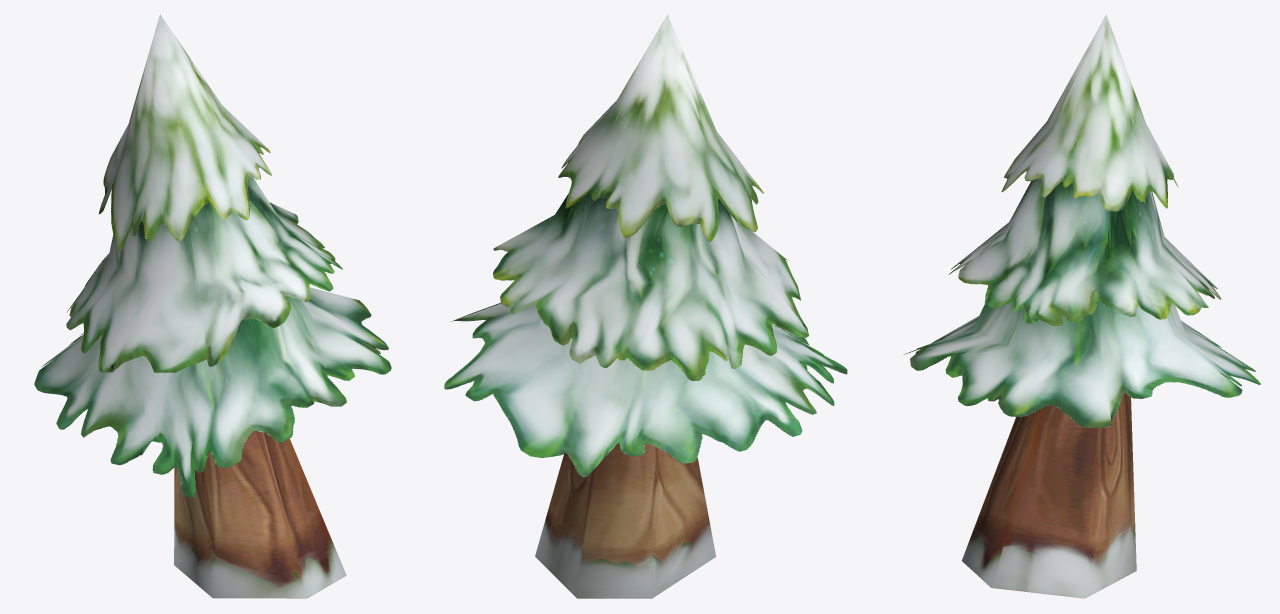
File: SM_tree_03.fbx
3 views of the same model, side by side, from view 1: azimuth 30°, elevation 25°; view 2: azimuth 150°, elevation 25°; view 3: azimuth 270°, elevation 25° (orthographic). The views are drawn at different scales.
Parts seen in each view (by area): view 1: SM_tree_03; view 2: SM_tree_03; view 3: SM_tree_03.
Boxes of the visible parts, bbox=[...] form: SM_tree_03: bbox=[34, 14, 391, 598]; SM_tree_03: bbox=[444, 14, 847, 598]; SM_tree_03: bbox=[903, 14, 1260, 598].
Bounding box in the file's own units: 1.75 × 2.7 × 1.78.
